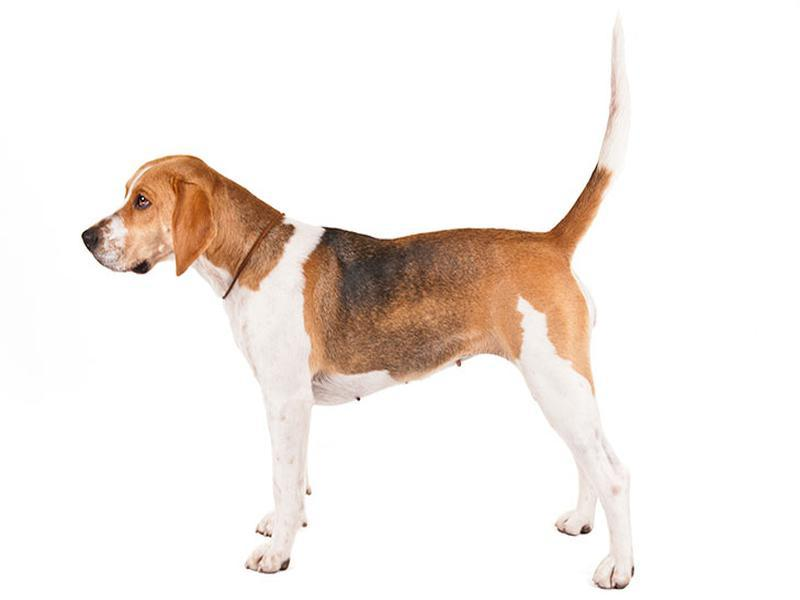dog: (80, 10, 647, 590)
